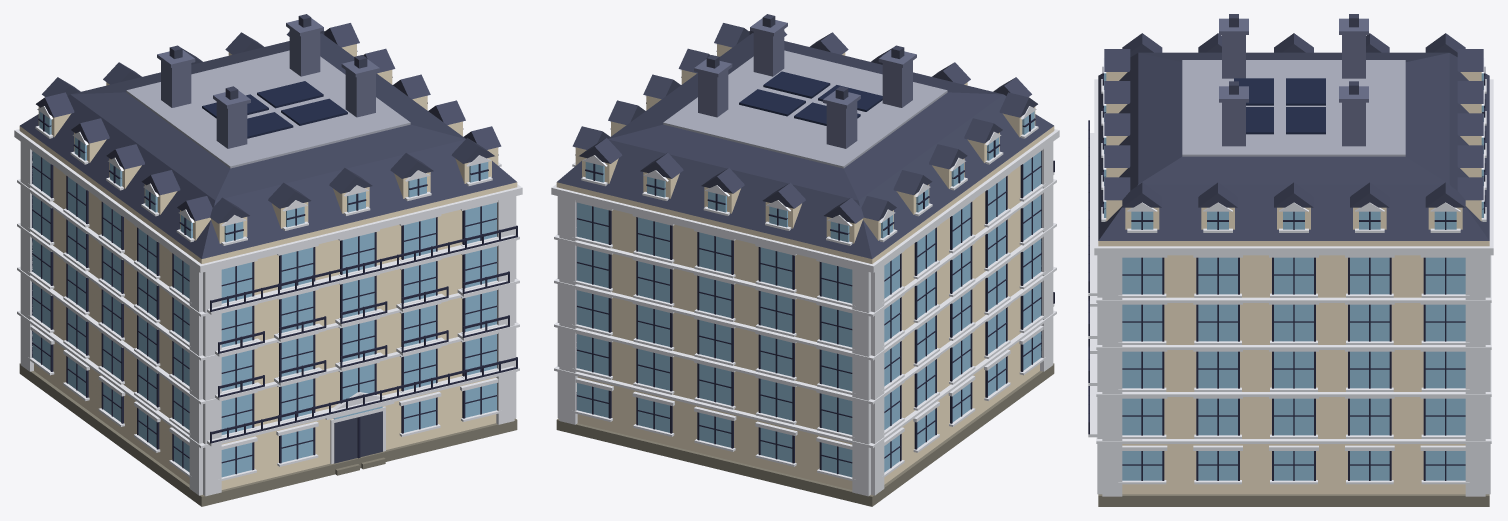
Rendered from house-2x2-5f-haussmann-a-solar.glb.
3 views of the same model, side by side, from view 1: azimuth 30°, elevation 25°; view 2: azimuth 150°, elevation 25°; view 3: azimuth 270°, elevation 25° (orthographic). The views are drawn at different scales.
Visible parts, largest first — view 1: house-2x2-5f-haussmann-a-solar; view 2: house-2x2-5f-haussmann-a-solar; view 3: house-2x2-5f-haussmann-a-solar.
Part boxes in pixels (<box>): house-2x2-5f-haussmann-a-solar: <box>14,14,522,506</box>; house-2x2-5f-haussmann-a-solar: <box>551,14,1059,506</box>; house-2x2-5f-haussmann-a-solar: <box>1088,14,1493,506</box>.
Size of the model in its own units: 2 by 2.07 by 2.03.
Materials: 1 (1 with a texture image).
